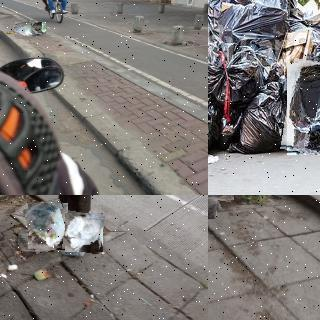Garbage: (235, 76, 297, 152), (208, 0, 293, 53), (208, 39, 266, 107), (283, 60, 320, 157), (26, 201, 71, 252), (64, 212, 104, 253), (238, 0, 302, 23), (14, 21, 38, 38), (32, 21, 46, 35)
